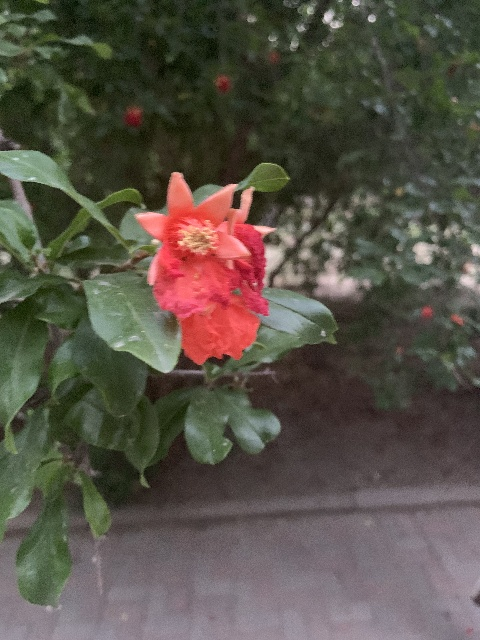flower: (134, 171, 260, 364), (214, 187, 277, 316)
